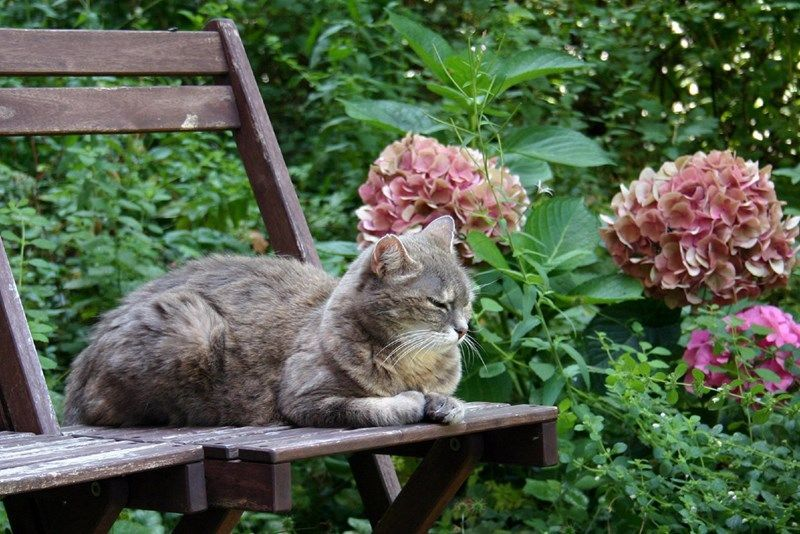cat: (66, 215, 476, 431)
